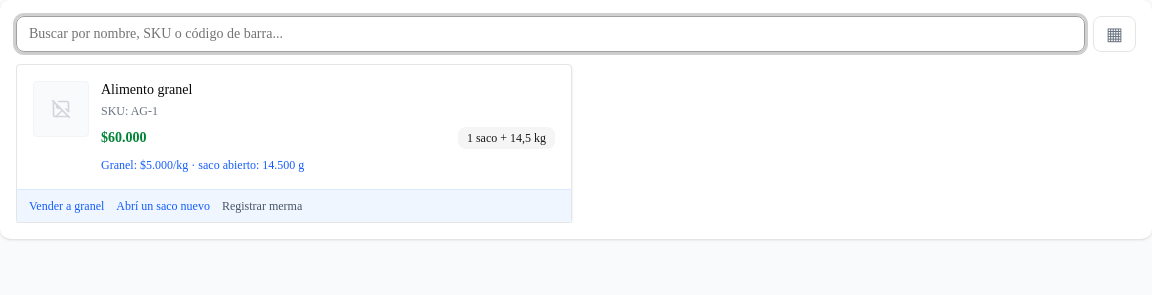
Test: SearchProductos — granel › GR-U-15: más gramos que el stock total (abierto + cerrados) → error, no agrega
The image size is (1152, 295).
Click the button "Vender a granel" at [67, 206], box [29,198,104,214]
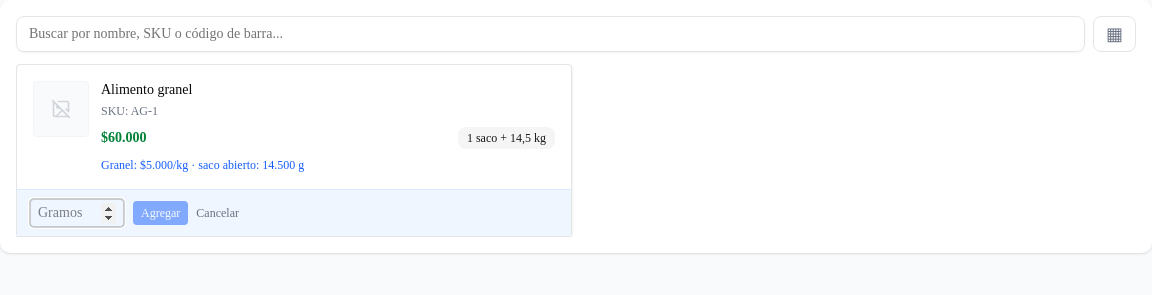
Type "30000" into the number field with placeholder "Gramos" at [77, 212], box [29,198,125,228]
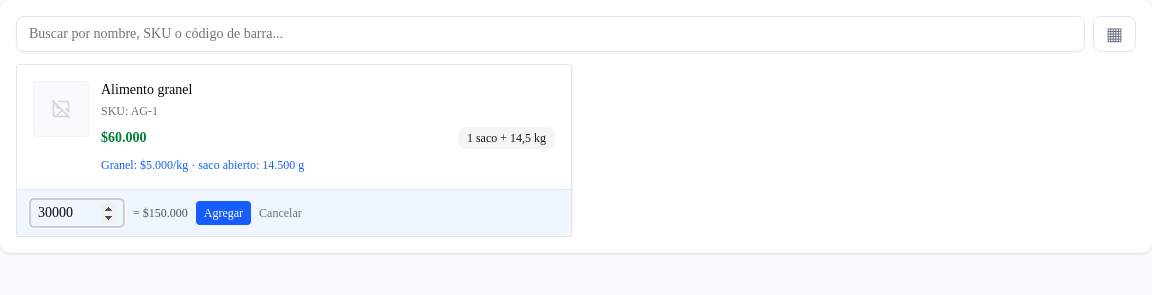
Click the button "Agregar" at [223, 212], box [196,200,251,224]
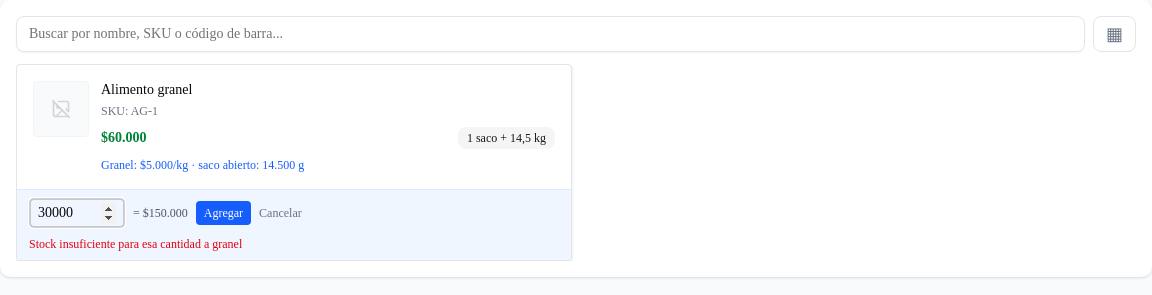
Expected: the message shows "Stock insuficiente", [29,236,242,250]
